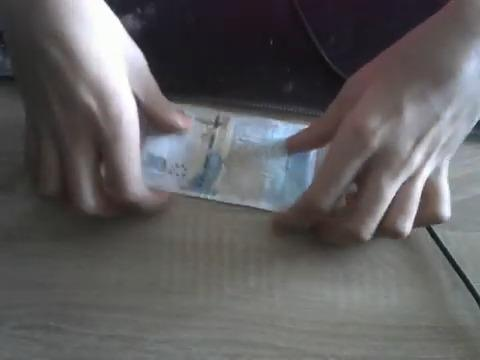20leva: (143, 105, 321, 213)
